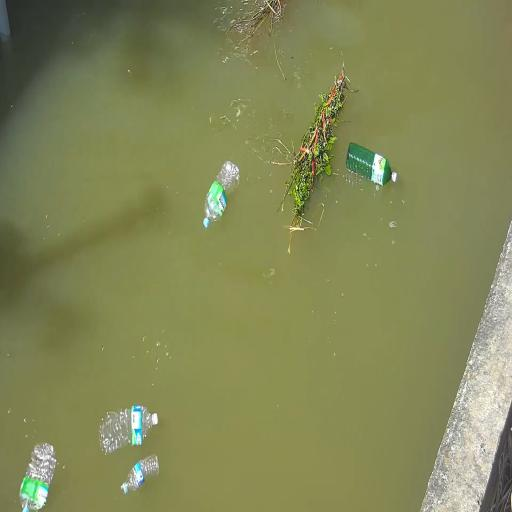plastic: (16, 433, 66, 512), (98, 405, 165, 454), (202, 160, 243, 229), (112, 448, 166, 496), (348, 144, 394, 195)
twig: (280, 81, 349, 230), (230, 0, 292, 51)
